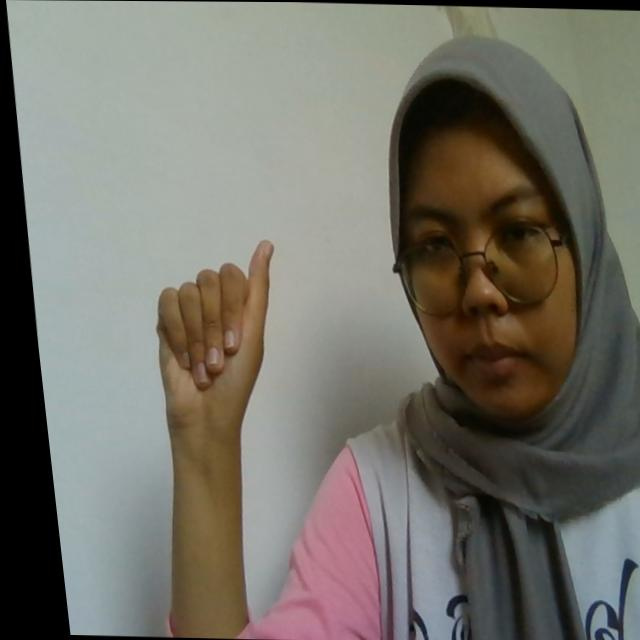A: (137, 234, 286, 419)
